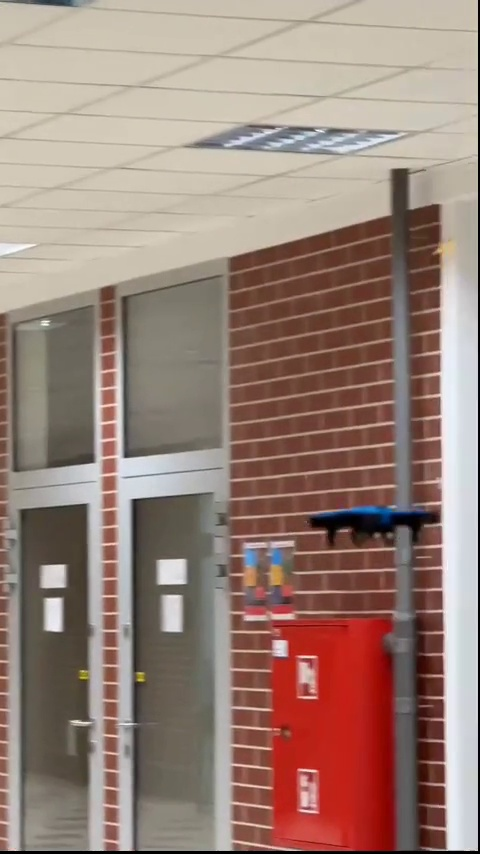drone: (305, 500, 439, 545)
